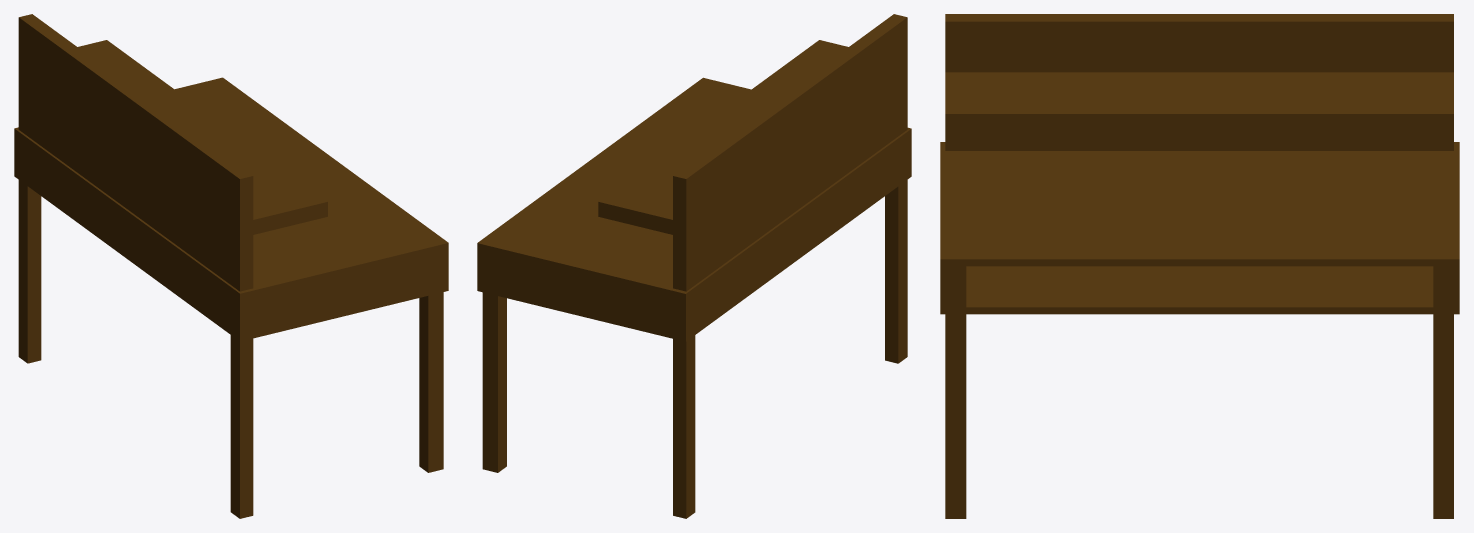
The model's file is DoubleDesk.fbx.
3 renders of one model, left to right at view 1: azimuth 30°, elevation 25°; view 2: azimuth 150°, elevation 25°; view 3: azimuth 270°, elevation 25°, orthographic. The views are drawn at different scales.
Parts seen in each view (by area): view 1: DuobleDesk; view 2: DuobleDesk; view 3: DuobleDesk.
Part boxes in pixels (x1=…): DuobleDesk: x1=14, y1=14, x2=448, y2=518; DuobleDesk: x1=477, y1=14, x2=911, y2=518; DuobleDesk: x1=940, y1=14, x2=1459, y2=518.
Size of the model in its own units: 200 by 311 by 375.
